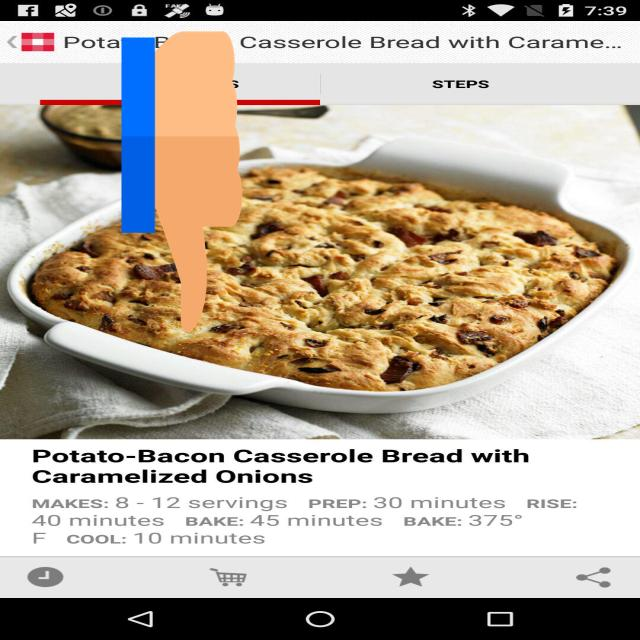obstruction: (121, 24, 242, 340)
